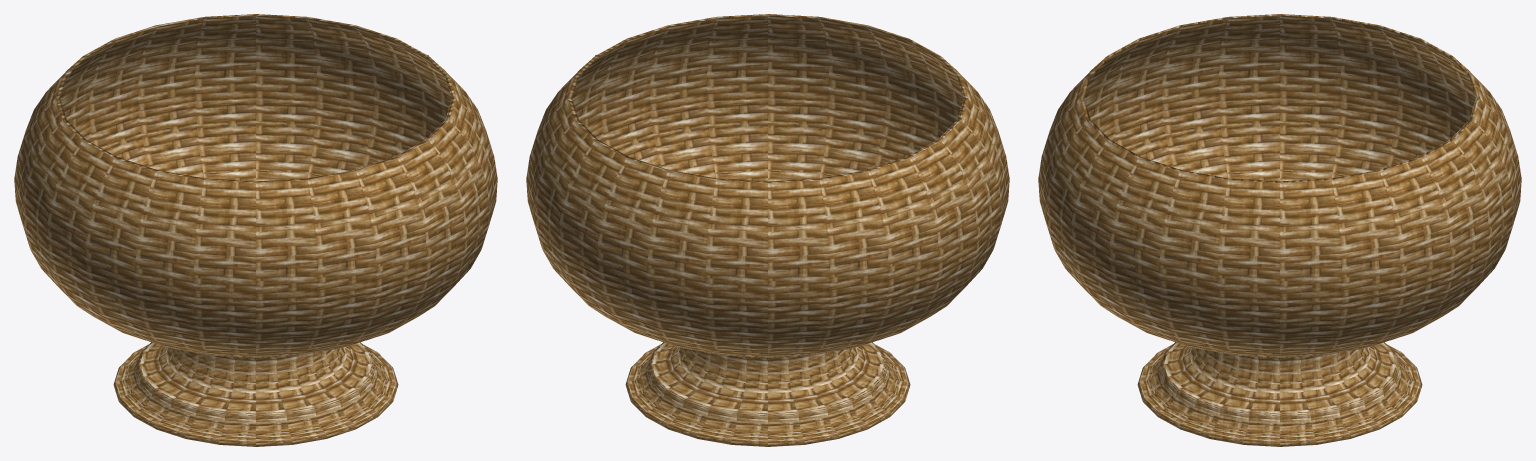
The picture shows the model from 3 angles, left to right: view 1: azimuth 30°, elevation 25°; view 2: azimuth 150°, elevation 25°; view 3: azimuth 270°, elevation 25°; orthographic projection.
Visible parts, largest first — view 1: mesh1_mesh1-geometry; view 2: mesh1_mesh1-geometry; view 3: mesh1_mesh1-geometry.
Boxes of the visible parts, bbox=[...] form: mesh1_mesh1-geometry: bbox=[14, 14, 497, 446]; mesh1_mesh1-geometry: bbox=[526, 14, 1009, 446]; mesh1_mesh1-geometry: bbox=[1038, 14, 1521, 446].
Size of the model in its own units: 0.6399 by 0.4254 by 0.6399.
